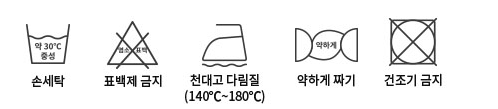KR_gentle_wring: (291, 20, 360, 67)
KR_hand_wash_30_neutral: (22, 18, 75, 69)
KR_no_chlorine_bleach: (105, 20, 163, 70)
KR_no_tumble_dry: (384, 15, 442, 71)
